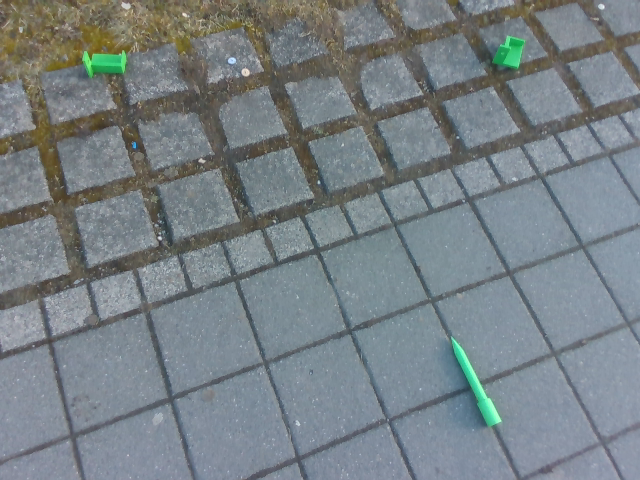Probe: (445, 327, 505, 430)
